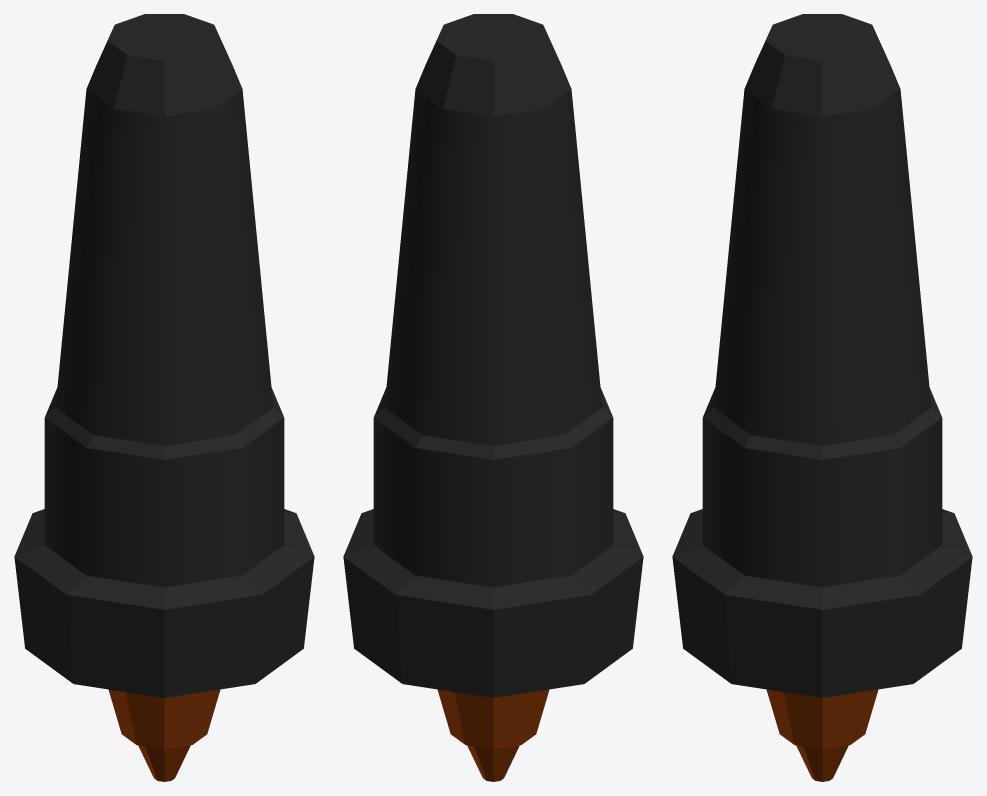
File: Thruster2.FBX
3 renders of one model, left to right at view 1: azimuth 30°, elevation 25°; view 2: azimuth 150°, elevation 25°; view 3: azimuth 270°, elevation 25°, orthographic.
Visible parts, largest first — view 1: Cylinder001; view 2: Cylinder001; view 3: Cylinder001.
Boxes of the visible parts, <box> form: Cylinder001: <box>14,14,314,781</box>; Cylinder001: <box>343,14,643,781</box>; Cylinder001: <box>672,14,972,781</box>.
Size of the model in its own units: 28.88 by 79.82 by 29.32.
